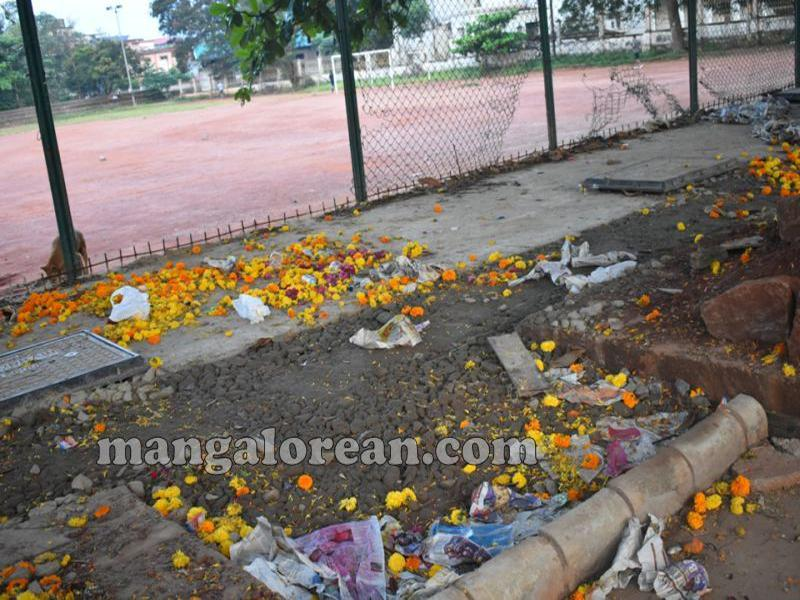flowers: (19, 228, 531, 350), (706, 139, 799, 225), (152, 473, 254, 551), (521, 415, 603, 501), (676, 472, 769, 541)
paper: (223, 515, 397, 600), (582, 500, 714, 600), (539, 234, 639, 296)
plastic: (103, 282, 157, 323)
